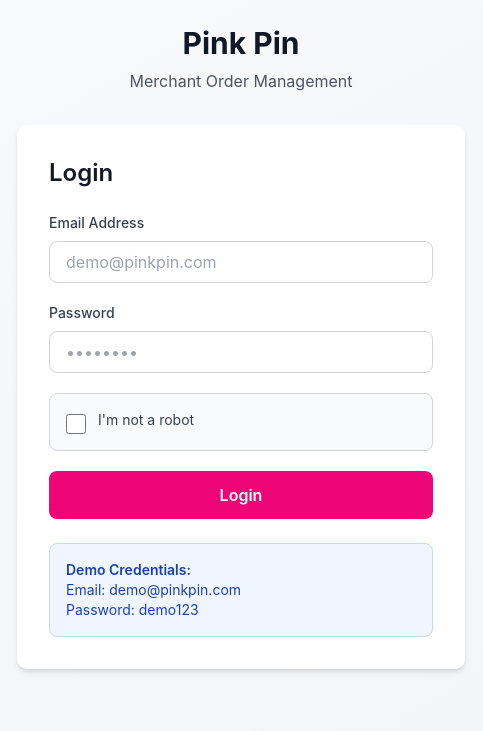
Scenario: LoginPage › Form Validation › should show CAPTCHA error when not checked and form submitted
The image size is (483, 731).
Click the button "Login": [241, 495] box [49,471,433,519]
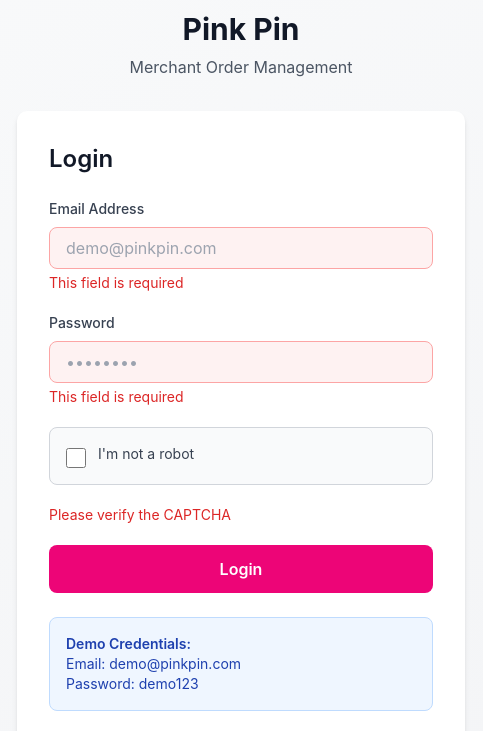
expect the text "Please verify the CAPTCHA" is shown: met, box [49,506,231,523]
